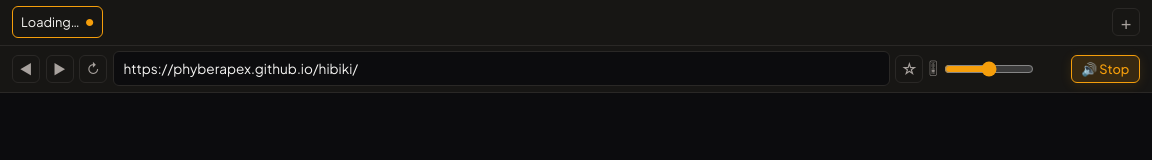
Test: browserView › tabs › renders each tab as a tab control with a sibling close button, never a button inside a button
Click the button "+".
click(1126, 22)  # box [1112,8,1140,36]
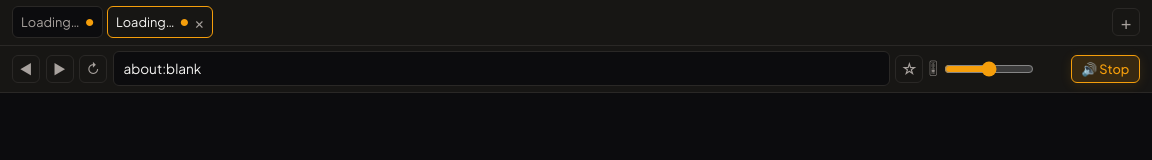
Now the number of tabs is 2, box [13,7,102,38]; [108,7,192,38]
